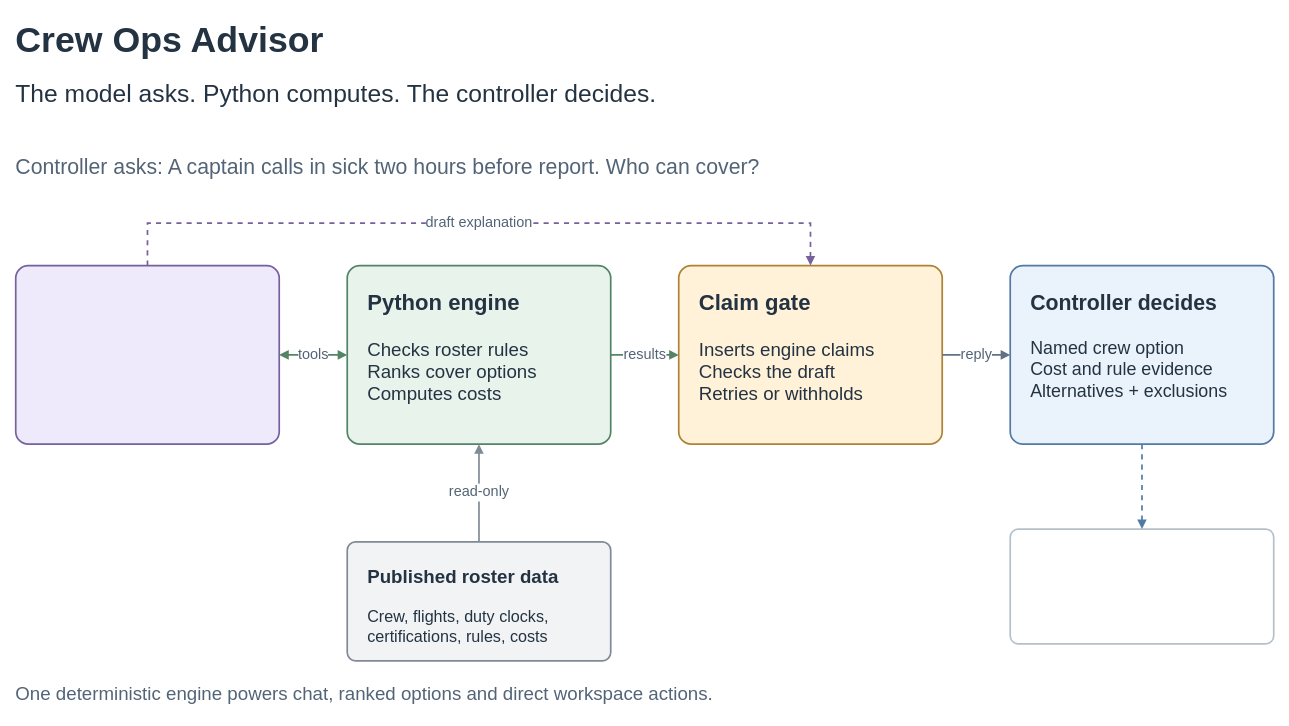
The diagram is 1289 pixels wide and 726 high, and some of its shapes have lost their labels. The shapes that lost their labels are listed below. From the top down, each one's box as (x1, y1, x2, y2) in pixels, then its label:
(14, 264, 280, 445): Language model Understands the request Chooses tools Drafts the explanation
(1009, 528, 1274, 644): Example: P-2291 C-3310 reserve callout INR 18,500
